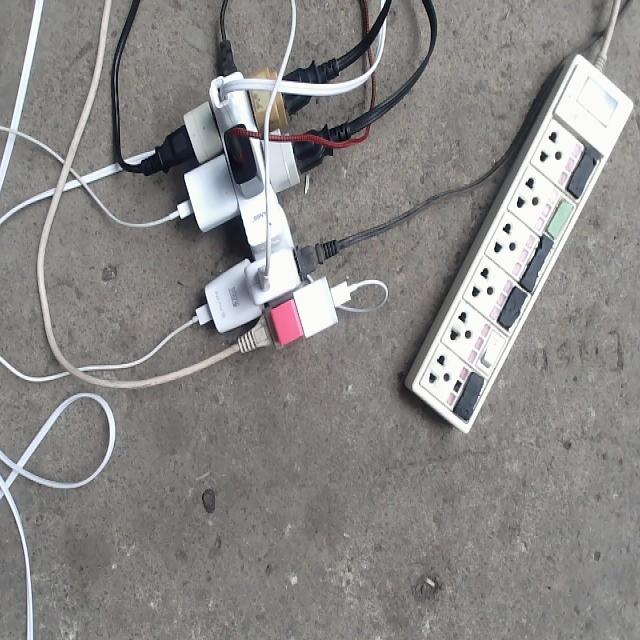-: (136, 37, 356, 351)
